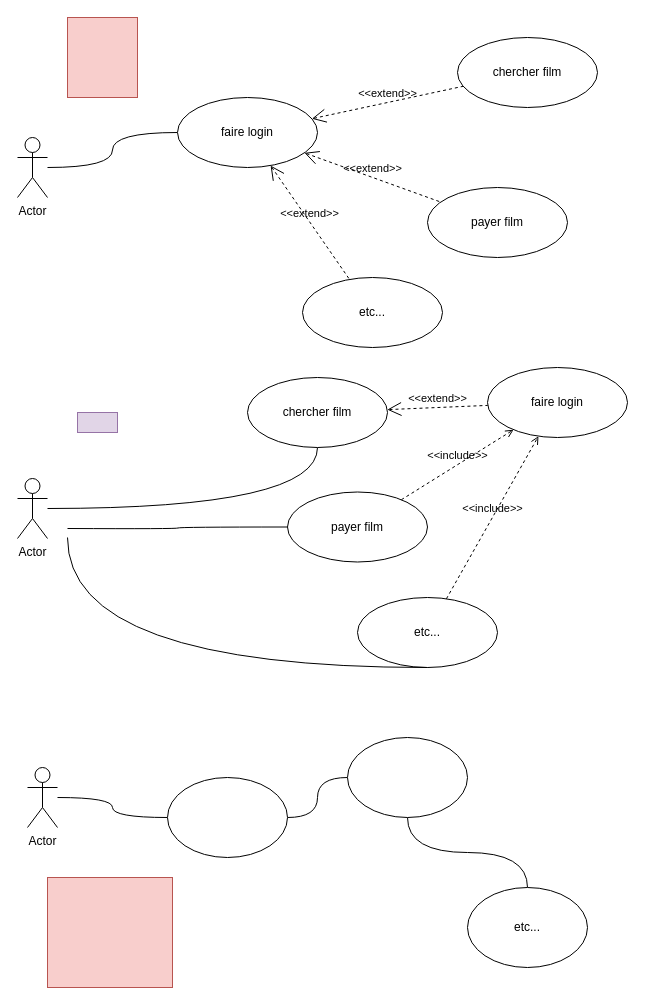
Some shapes in this 645 by 1005 pixel diagram are drawn without their labels. Here are the shapes that lost their labels. From the top down, the centre of each, then its label:
At point (102, 57): "PAS OK".
At point (97, 422): "OK!".
At point (407, 777): "payer".
At point (227, 817): "chercher".
At point (109, 932): "Ce diagramme ne respecte même pas la notation: à ne pas faire".
